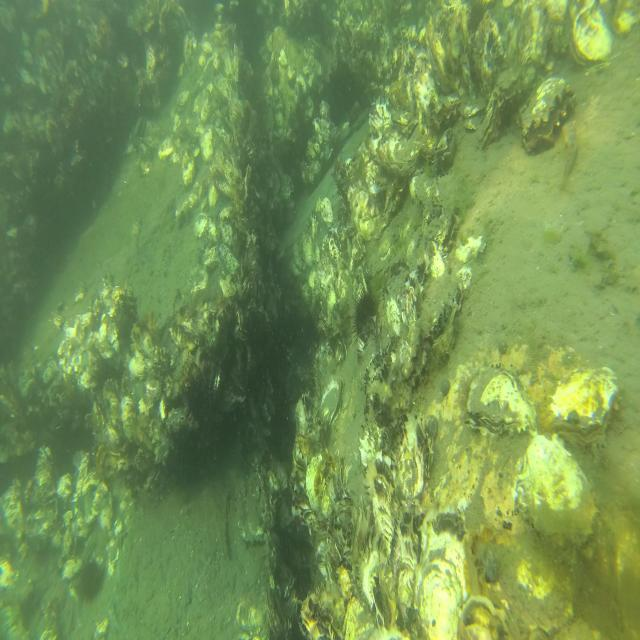echinus: (352, 286, 380, 343), (77, 559, 104, 604), (184, 373, 208, 420)
